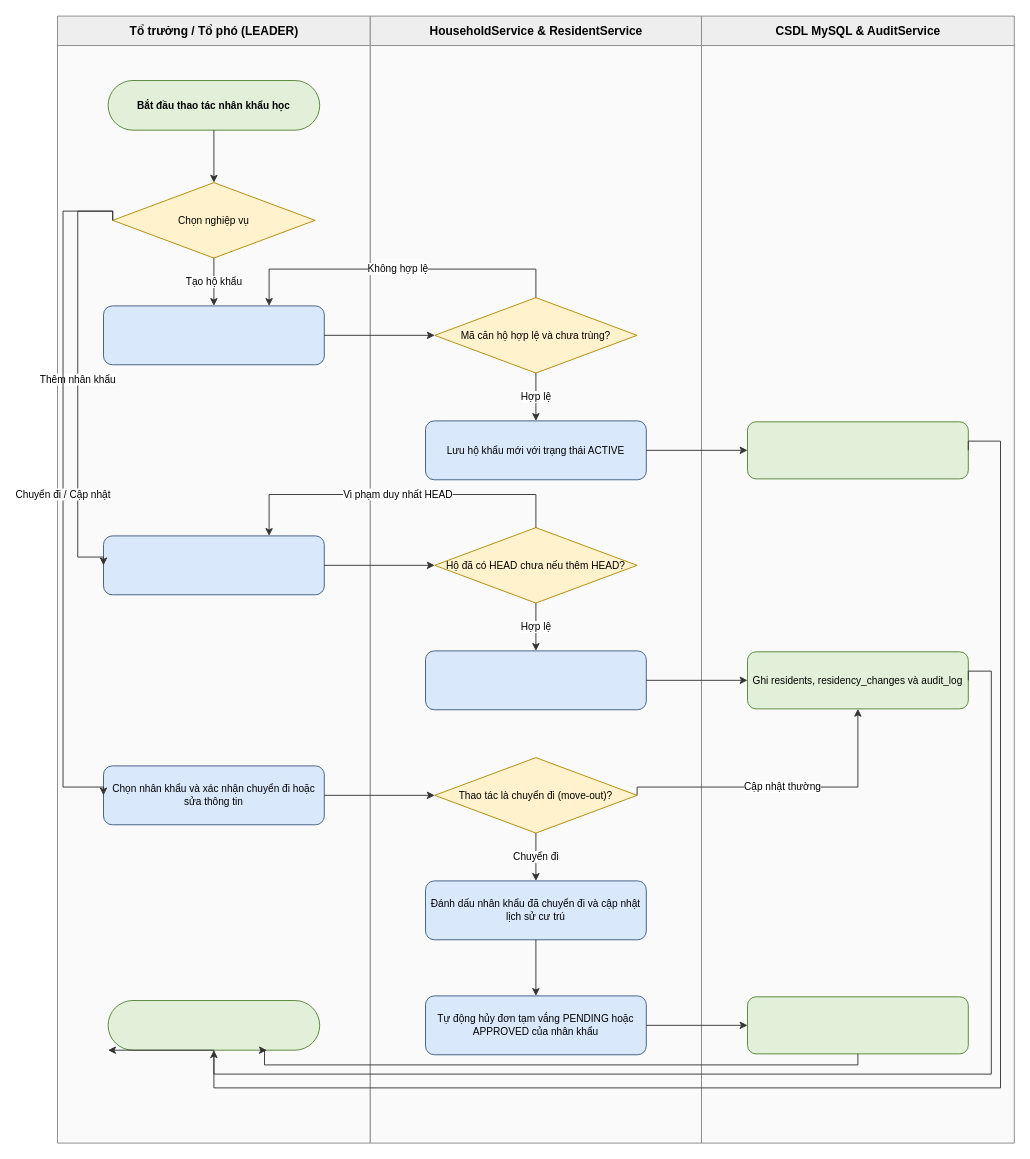
The diagram is 1030 pixels wide and 1159 high, and some of its shapes have lost their labels. The shapes that lost their labels are listed below. From the top down, each one's centre as x and y in pixels, then its label:
At (213,335): "Nhập thông tin căn hộ, diện tích và mã hộ".
At (857,450): "Ghi households, residency_changes và audit_log".
At (213,565): "Nhập thông tin nhân khẩu và quan hệ với chủ hộ".
At (535,680): "Lưu nhân khẩu vào hộ khẩu".
At (213,1025): "Nhận kết quả cập nhật".
At (857,1025): "Cập nhật residents và hủy declaration, ghi audit_log".
